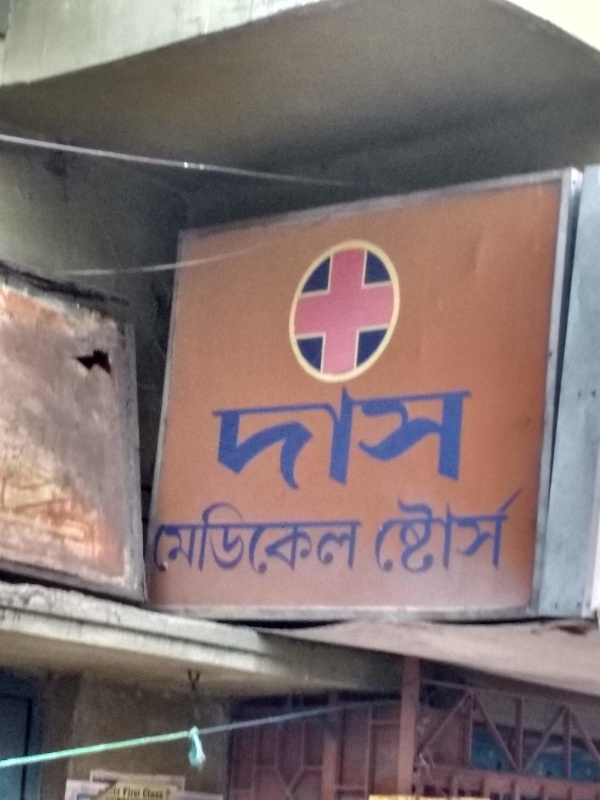text: (225, 374, 240, 494), (241, 374, 256, 494), (257, 374, 272, 494), (273, 374, 288, 494), (289, 374, 304, 494), (305, 374, 320, 494), (321, 374, 336, 494), (337, 374, 352, 494), (353, 374, 368, 494), (369, 374, 384, 494), (385, 374, 400, 494), (401, 374, 416, 494), (417, 374, 432, 494), (433, 374, 448, 494), (449, 374, 464, 494), (211, 374, 224, 494), (401, 472, 416, 573), (417, 472, 432, 573), (433, 472, 448, 573), (449, 472, 464, 573), (465, 472, 480, 573), (481, 472, 496, 573), (497, 472, 512, 573), (513, 472, 528, 573), (465, 374, 477, 494), (386, 472, 400, 573), (177, 499, 192, 580), (193, 499, 208, 580), (209, 499, 224, 580), (225, 499, 240, 580), (241, 499, 256, 580), (257, 499, 272, 580), (273, 499, 288, 580), (289, 499, 304, 580), (305, 499, 320, 580), (321, 499, 336, 580), (337, 499, 352, 580), (353, 499, 368, 580), (164, 499, 176, 580), (529, 472, 533, 573), (97, 779, 112, 799), (113, 779, 128, 799), (129, 779, 144, 799), (145, 779, 160, 799), (161, 779, 176, 799), (369, 499, 372, 580), (177, 779, 179, 799)
